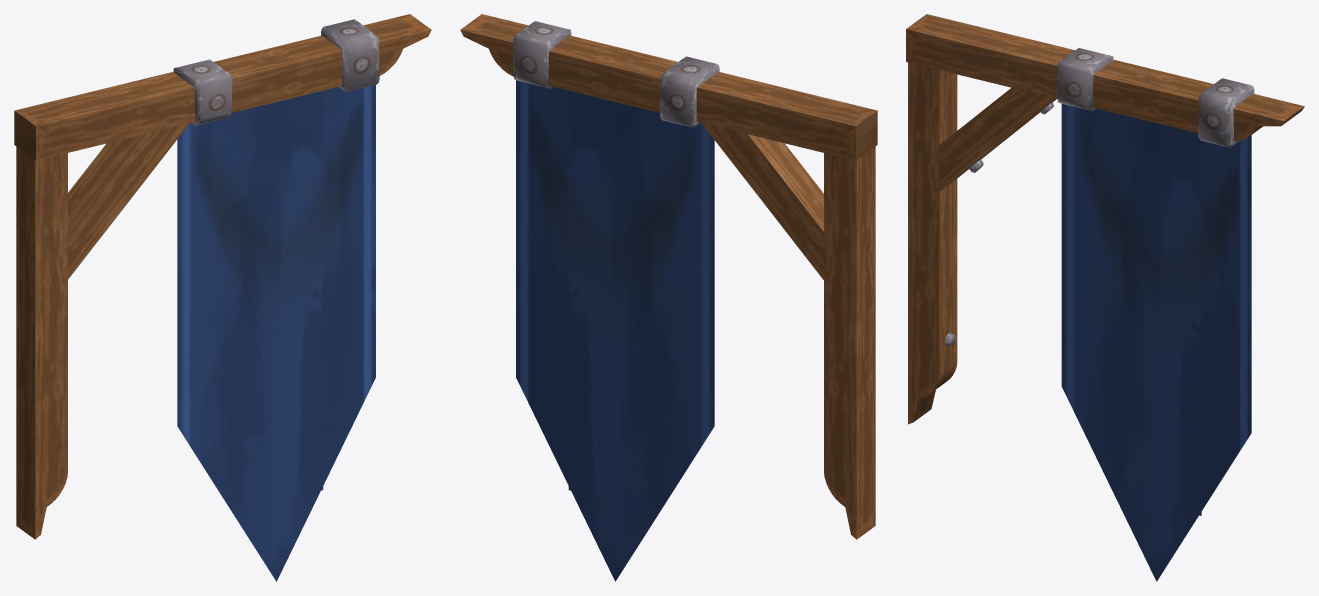
The model's file is banner_2.glb.
3 renders of one model, left to right at view 1: azimuth 30°, elevation 25°; view 2: azimuth 150°, elevation 25°; view 3: azimuth 330°, elevation 25°, orthographic. The views are drawn at different scales.
Visible parts, largest first — view 1: Banner_2; view 2: Banner_2; view 3: Banner_2.
Boxes of the visible parts, box(x1,y1,x2,y2) form: Banner_2: box(14, 14, 431, 581); Banner_2: box(460, 14, 877, 581); Banner_2: box(906, 14, 1304, 581).
Size of the model in its own units: 1.61 by 2.08 by 0.1907.
3 materials, 3 textured.
